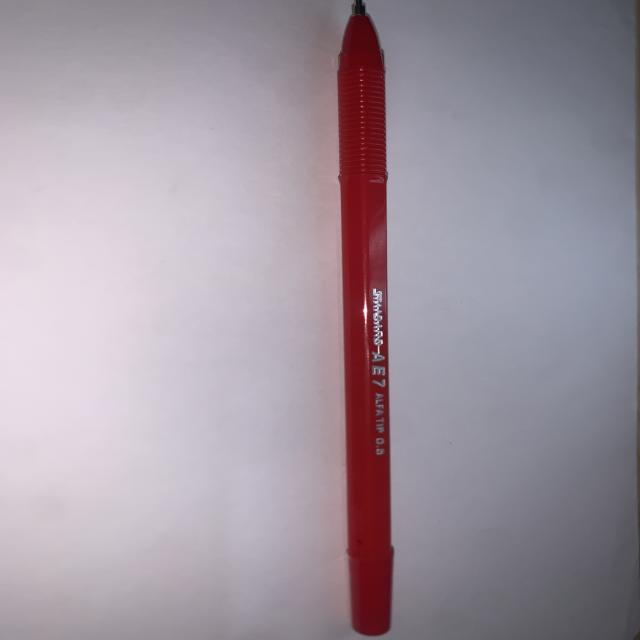Pulpen: (320, 0, 416, 640)
